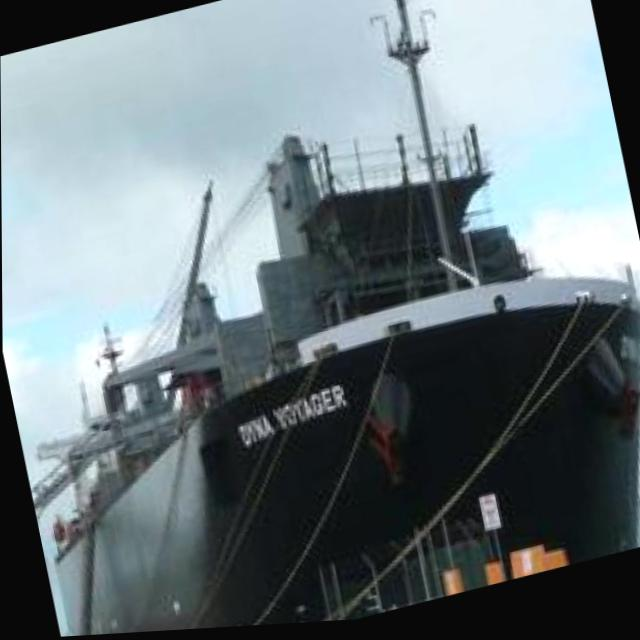ship2: (30, 0, 640, 637)
